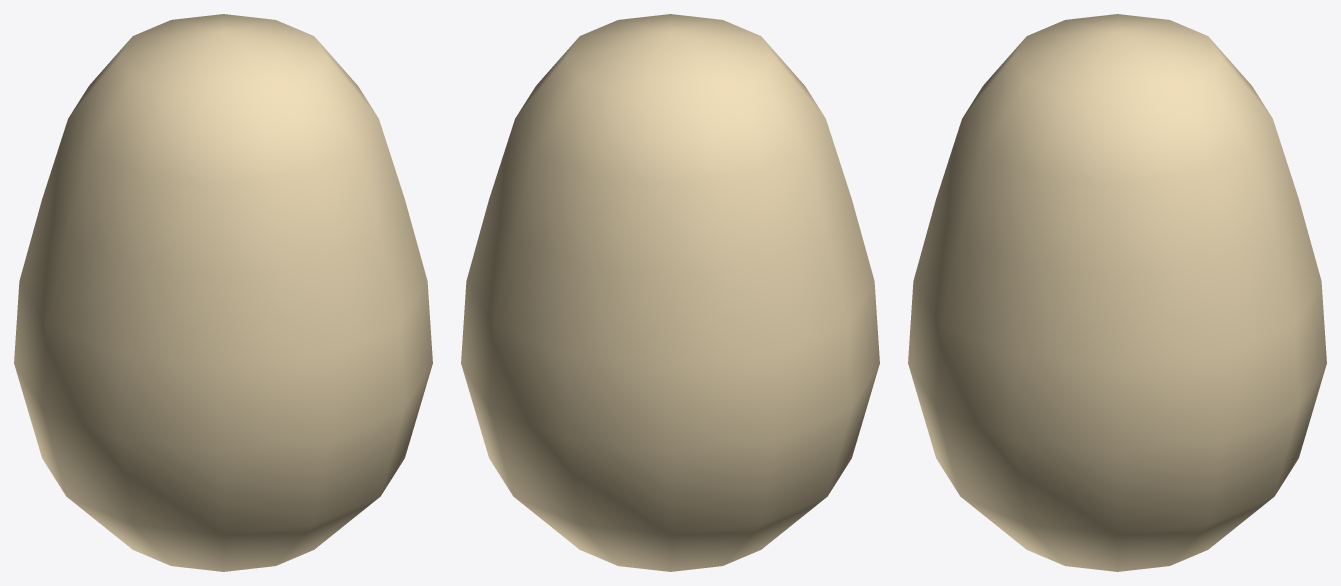
Rendered from egg.fbx.
3 views of the same model, side by side, from view 1: azimuth 30°, elevation 25°; view 2: azimuth 150°, elevation 25°; view 3: azimuth 270°, elevation 25° (orthographic).
Visible parts, largest first — view 1: Sphere001; view 2: Sphere001; view 3: Sphere001.
Boxes of the visible parts, x1=… form: Sphere001: x1=14, y1=14, x2=432, y2=571; Sphere001: x1=461, y1=14, x2=879, y2=571; Sphere001: x1=908, y1=14, x2=1326, y2=571.
Bounding box in the file's own units: 20.51 × 28.11 × 20.51.
1 material, 1 textured.
